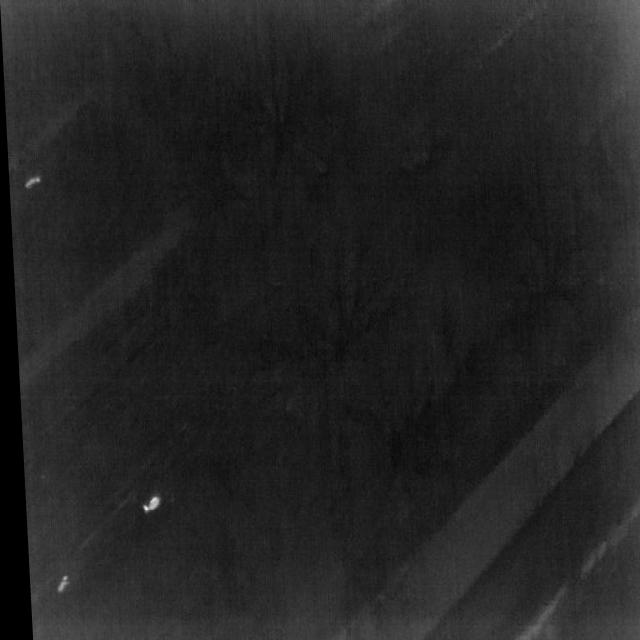deer: (136, 496, 156, 514), (50, 574, 64, 592), (22, 176, 39, 190)
